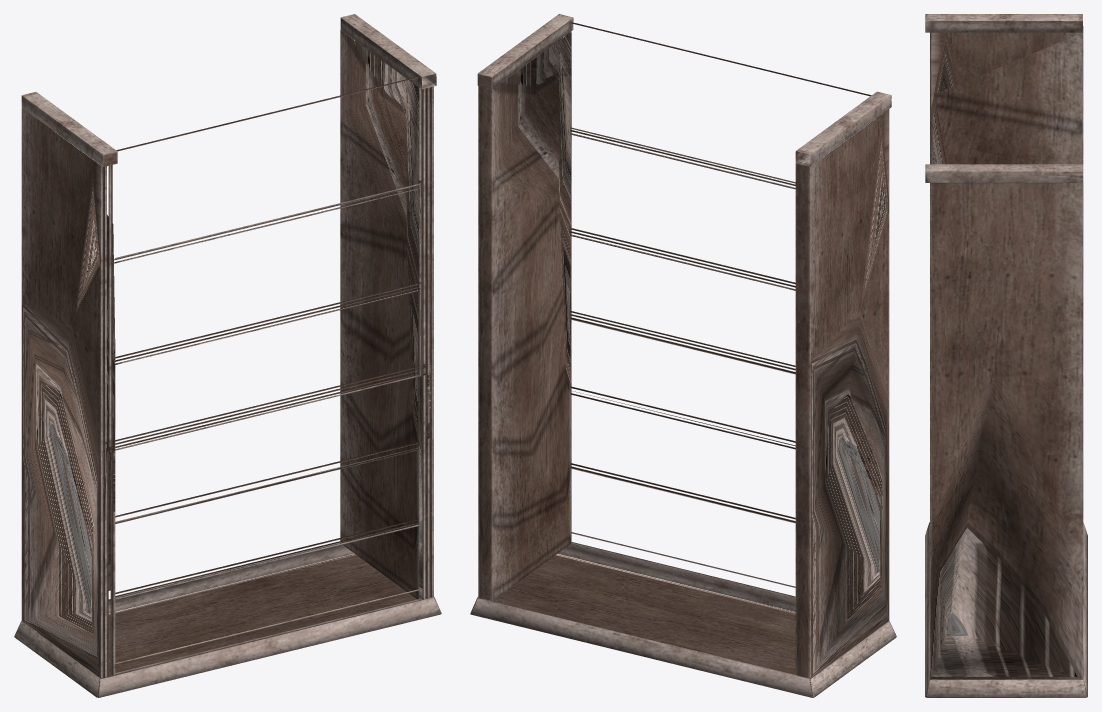
Rendered from wooden_bookshelf_worn.gltf.
3 renders of one model, left to right at view 1: azimuth 30°, elevation 25°; view 2: azimuth 150°, elevation 25°; view 3: azimuth 270°, elevation 25°, orthographic. The views are drawn at different scales.
Visible parts, largest first — view 1: wooden_bookshelf_worn; view 2: wooden_bookshelf_worn; view 3: wooden_bookshelf_worn.
Boxes of the visible parts, box(x1,y1,x2,y2) form: wooden_bookshelf_worn: box(14, 14, 441, 697); wooden_bookshelf_worn: box(470, 14, 896, 697); wooden_bookshelf_worn: box(925, 14, 1087, 697).
Bounding box in the file's own units: 1.37 × 2.06 × 0.5813.
1 material, 1 textured.
